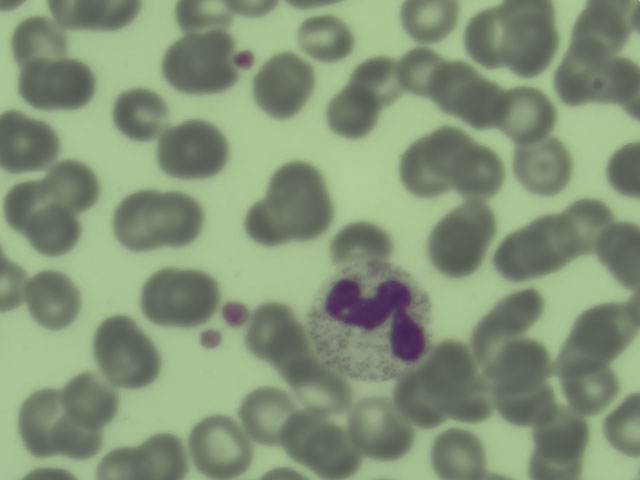Platelets: (218, 300, 252, 327), (228, 50, 259, 75), (197, 327, 226, 350)
RBC: (146, 268, 207, 323), (333, 216, 393, 263), (526, 213, 578, 265), (562, 199, 614, 251), (588, 63, 640, 115), (554, 50, 606, 102), (576, 2, 628, 54), (460, 8, 512, 60), (509, 22, 561, 74), (432, 211, 484, 263), (453, 146, 505, 198), (426, 120, 478, 172), (395, 145, 447, 197), (519, 141, 571, 193), (503, 87, 555, 139), (462, 81, 514, 133), (427, 60, 479, 112), (395, 44, 447, 96), (356, 57, 408, 109), (325, 89, 377, 141), (298, 10, 350, 62), (254, 60, 306, 112), (173, 37, 225, 89), (164, 123, 216, 175), (100, 327, 152, 379), (64, 371, 116, 423), (51, 417, 103, 469), (12, 394, 64, 446), (27, 276, 79, 328), (156, 194, 208, 246), (109, 195, 161, 247), (26, 208, 78, 260), (44, 161, 96, 213), (1, 115, 53, 167), (109, 87, 161, 139), (11, 60, 63, 112), (9, 16, 61, 68), (275, 410, 327, 462), (240, 385, 292, 437), (192, 421, 244, 473), (494, 228, 546, 280), (431, 428, 483, 480), (276, 164, 328, 215), (307, 428, 359, 479), (133, 428, 185, 479), (531, 396, 583, 447), (563, 361, 615, 412), (556, 322, 608, 373), (585, 300, 637, 351), (355, 401, 407, 452), (248, 307, 300, 358), (249, 185, 301, 236), (491, 287, 543, 338), (489, 339, 541, 390), (436, 341, 488, 392), (405, 369, 457, 420), (501, 373, 553, 424), (401, 1, 464, 43), (1, 181, 51, 233), (595, 221, 640, 275), (78, 1, 142, 38), (49, 63, 100, 106), (602, 141, 640, 198), (605, 396, 639, 453), (530, 445, 579, 480), (182, 1, 235, 33), (99, 442, 140, 479), (1, 256, 27, 309), (504, 1, 550, 26)
WBC: (307, 264, 433, 378)
